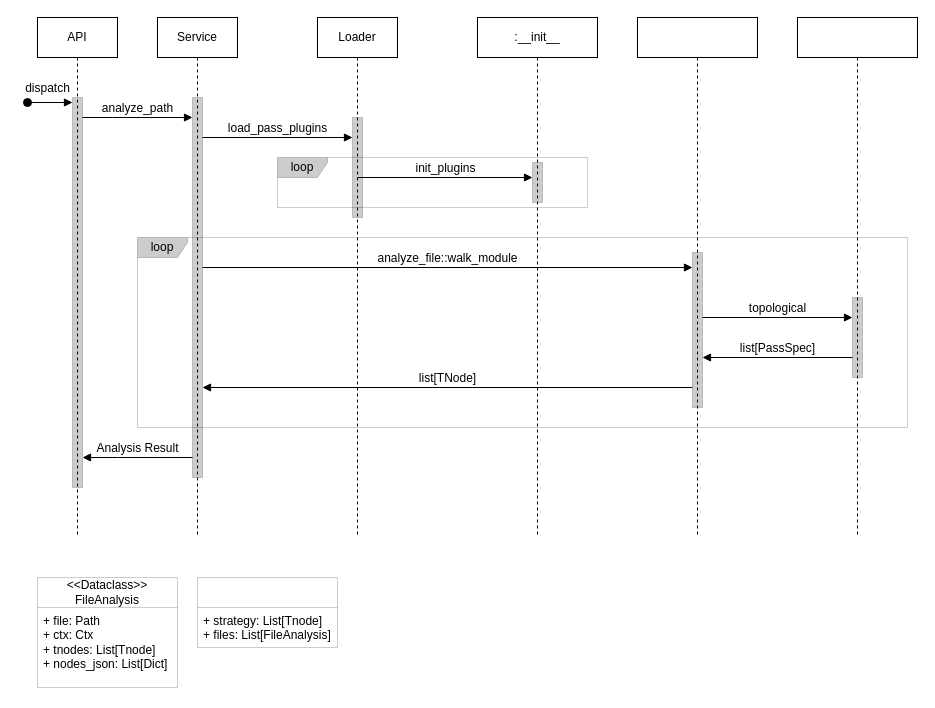
This 935x708 diagram has some shape labels left out. The box of each missing label's shape, as (x1, y1, x2, y2) in pixels:
<<Dataclass>> AnalysisResult: (196, 576, 338, 648)
PassRegistry: (796, 16, 918, 538)
Walker: (636, 16, 758, 538)
